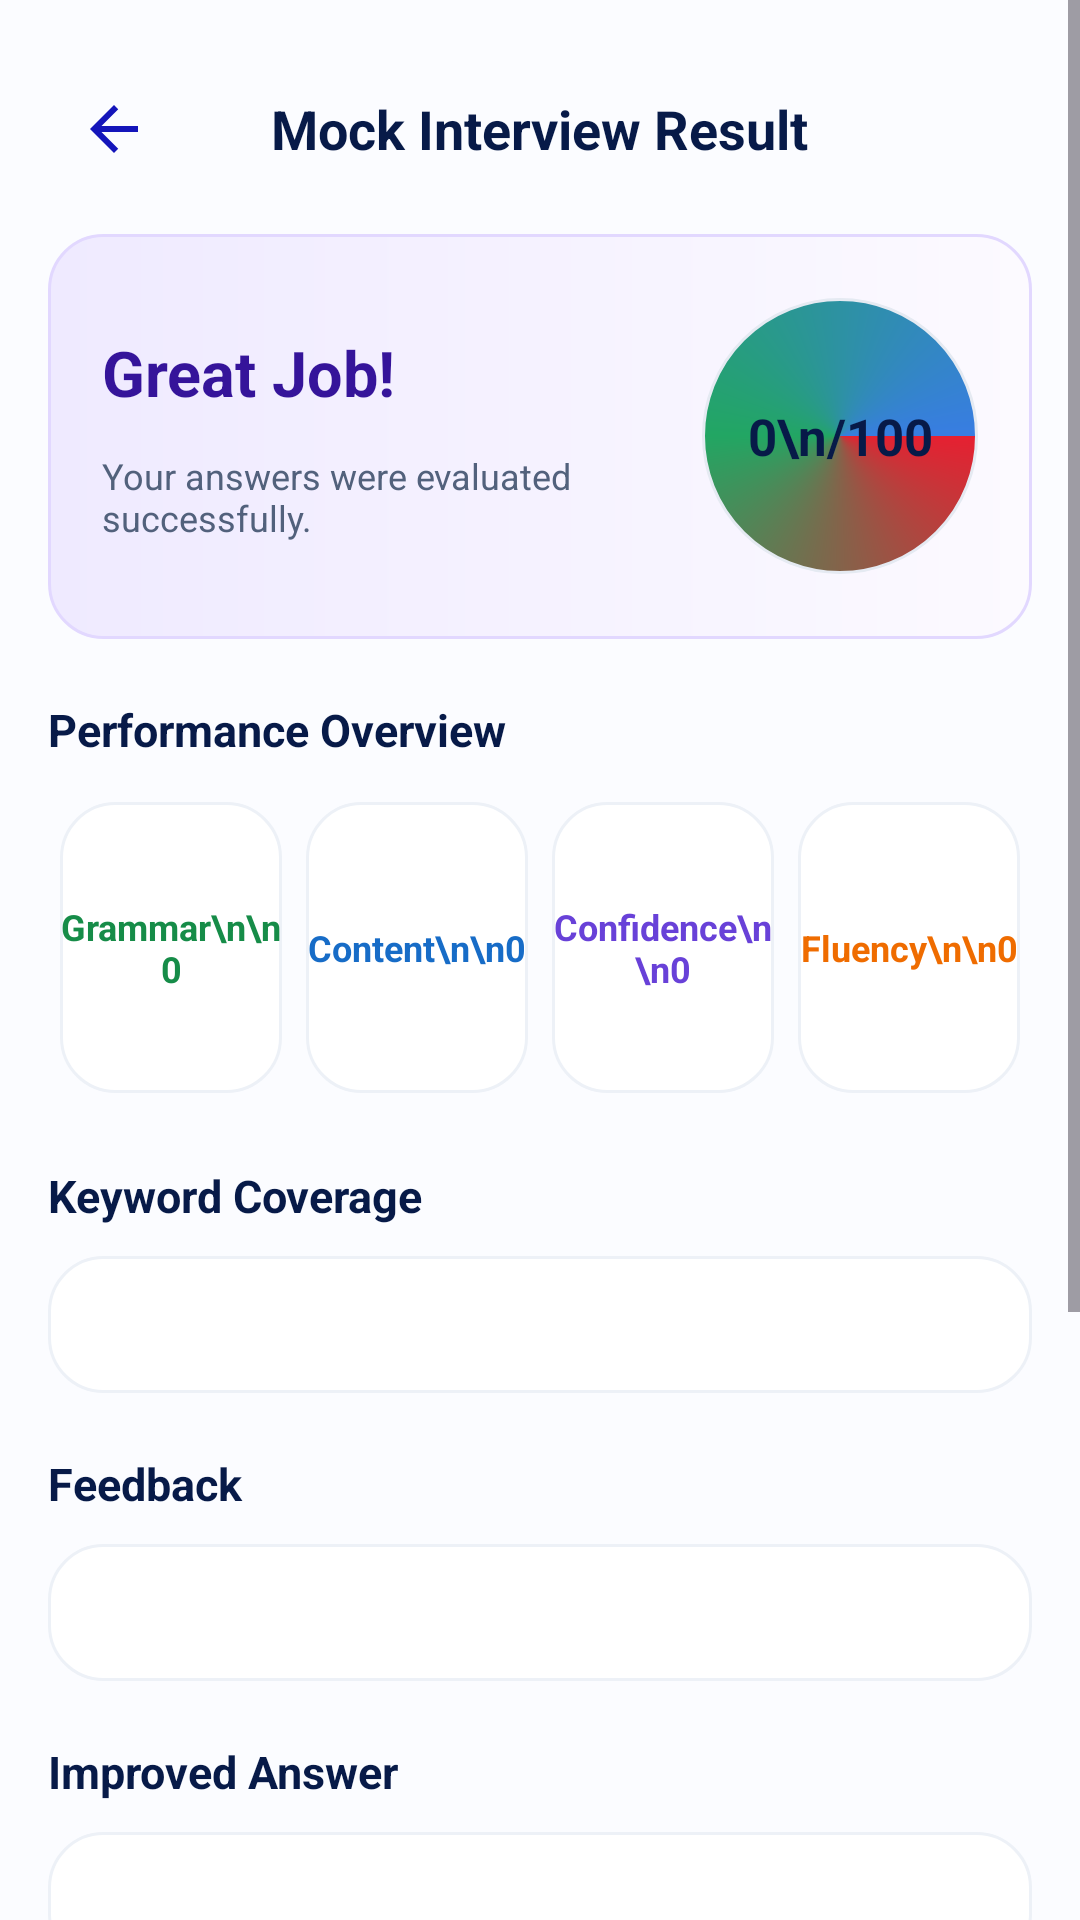

Icons on this 1080 × 1920 Android screen, each with its box as (x1,y1,x2,y2):
Back: (90,105,138,153)
